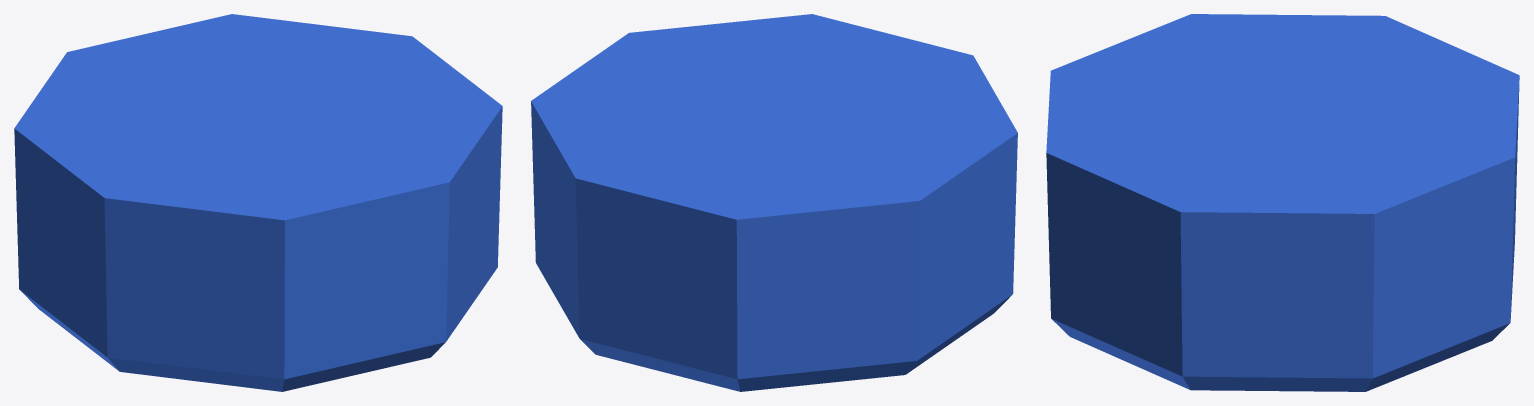
File: Collision_Pot_1.fbx
The picture shows the model from 3 angles, left to right: view 1: azimuth 30°, elevation 25°; view 2: azimuth 150°, elevation 25°; view 3: azimuth 270°, elevation 25°; orthographic projection. The views are drawn at different scales.
Visible parts, largest first — view 1: UCX_Pot_1_1; view 2: UCX_Pot_1_1; view 3: UCX_Pot_1_1.
Boxes of the visible parts, x1=… form: UCX_Pot_1_1: x1=14, y1=14, x2=502, y2=391; UCX_Pot_1_1: x1=531, y1=14, x2=1017, y2=391; UCX_Pot_1_1: x1=1046, y1=14, x2=1519, y2=391.
Size of the model in its own units: 46.57 by 22.73 by 46.57.
